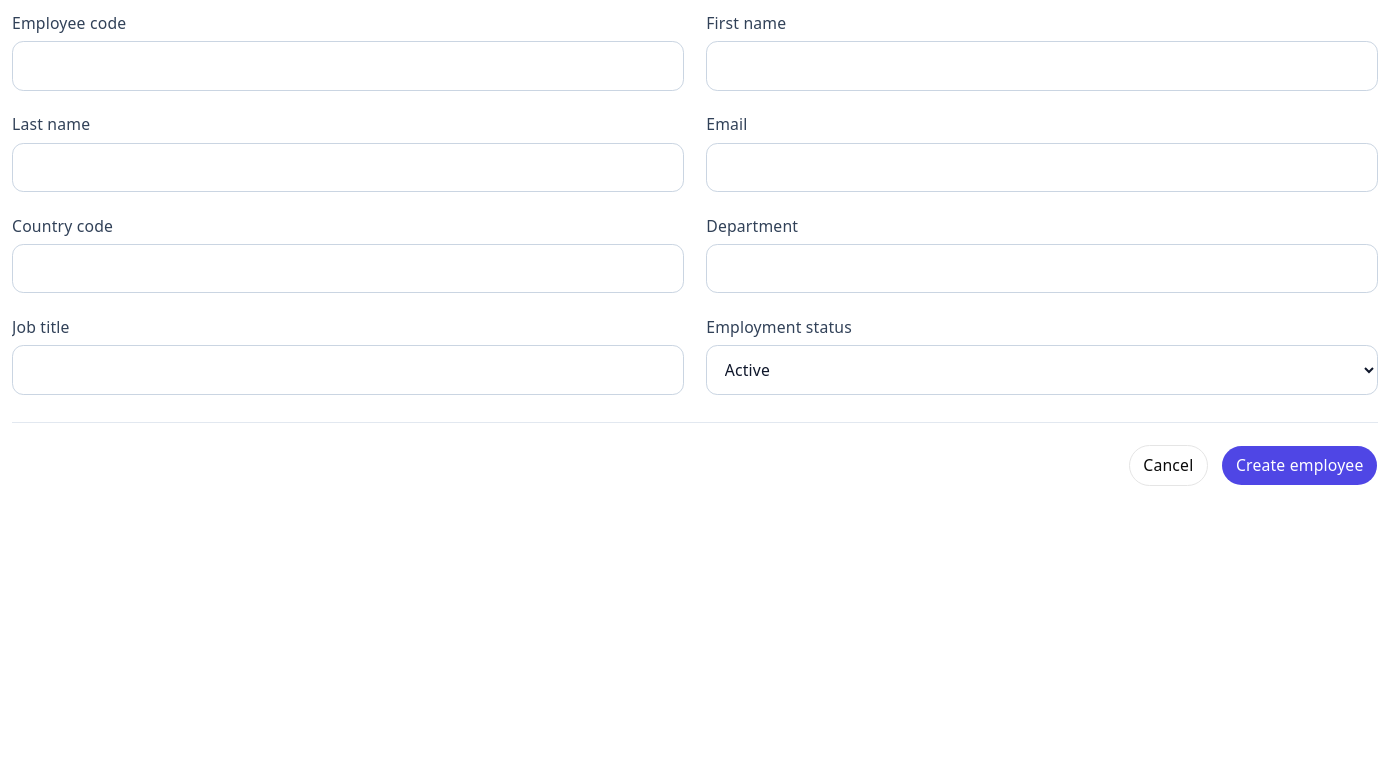
Test: employee creation form › shows field-level validation errors and does not submit invalid data
The image size is (1390, 780).
Step 1. Click the button "Create employee" → [1300, 465], box [1221,445,1378,486]
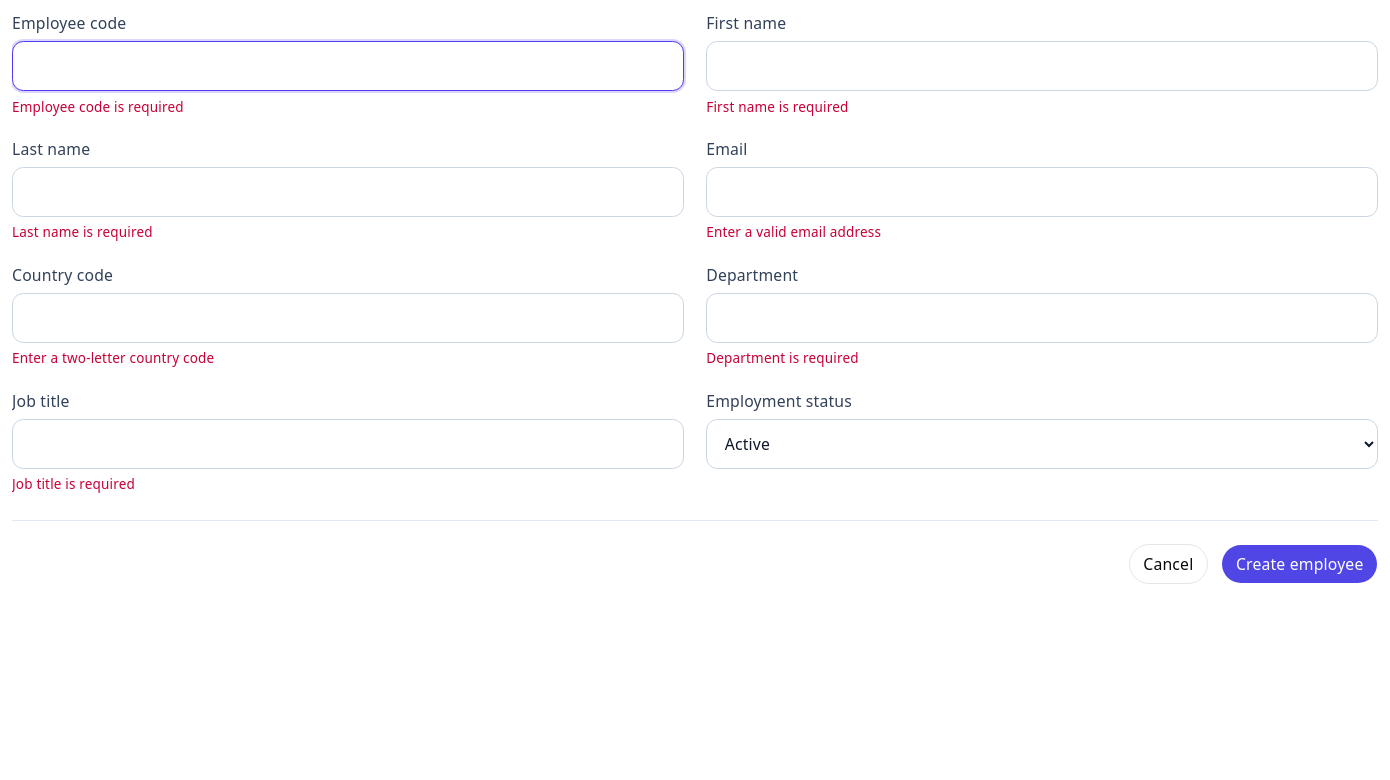
Now the text "Employee code is required" is shown, box [12,98,184,116]
Now the text "First name is required" is shown, box [706,98,849,116]
Now the text "Enter a two-letter country code" is shown, box [12,350,214,368]
